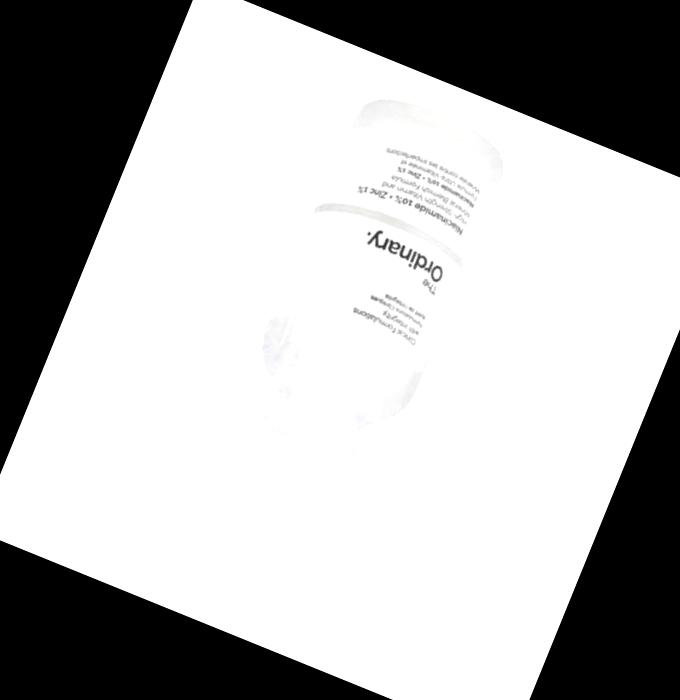cosmetic: (170, 84, 516, 620)
